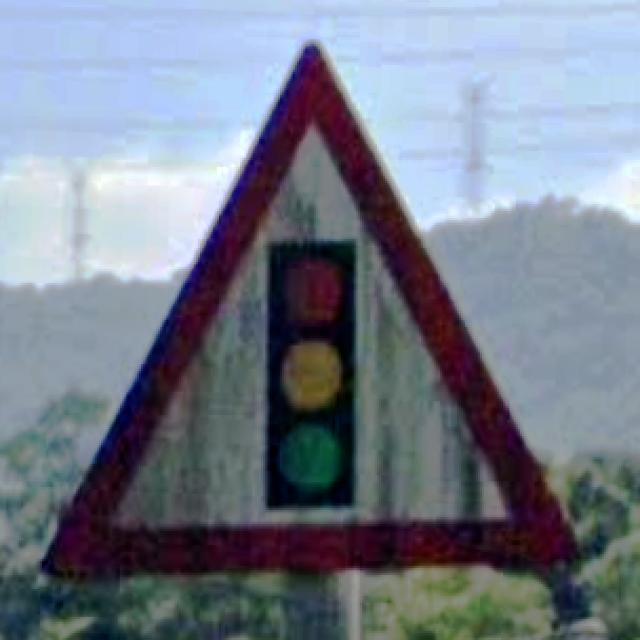signalahead: (43, 44, 579, 575)
